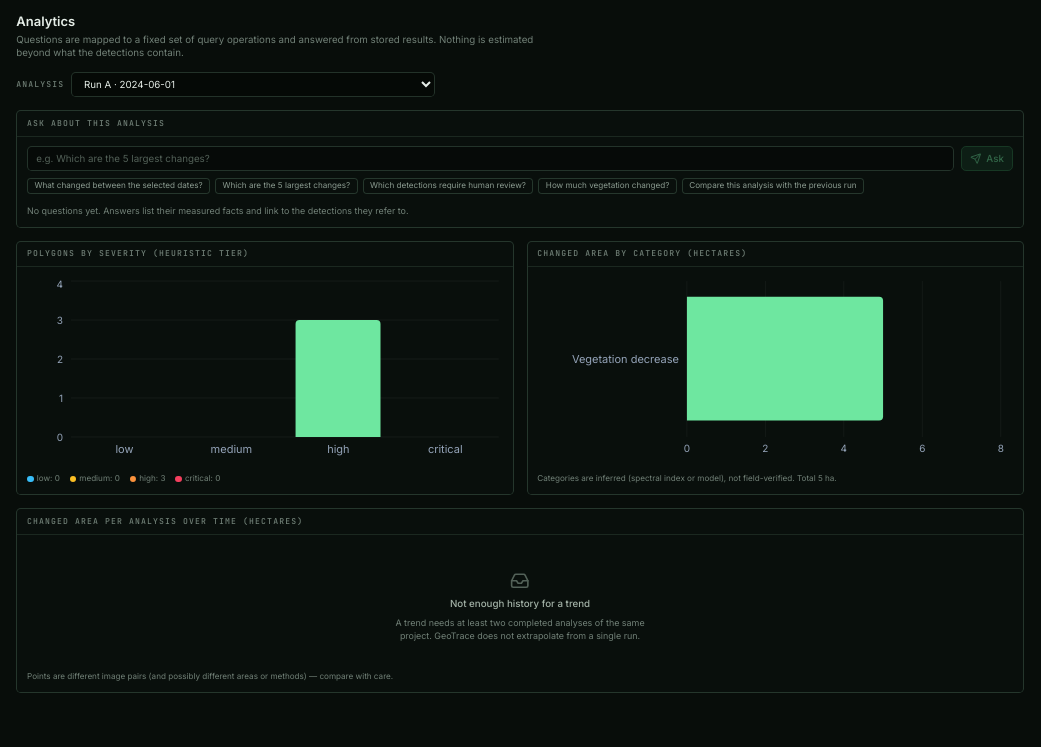
Test: AnalyticsPage › answers a question via the API and shows an honest message for unsupported ones
Type "Will it rain tomorrow?" into the field named "Ask a question" at (491, 159), box [27,146,954,171]
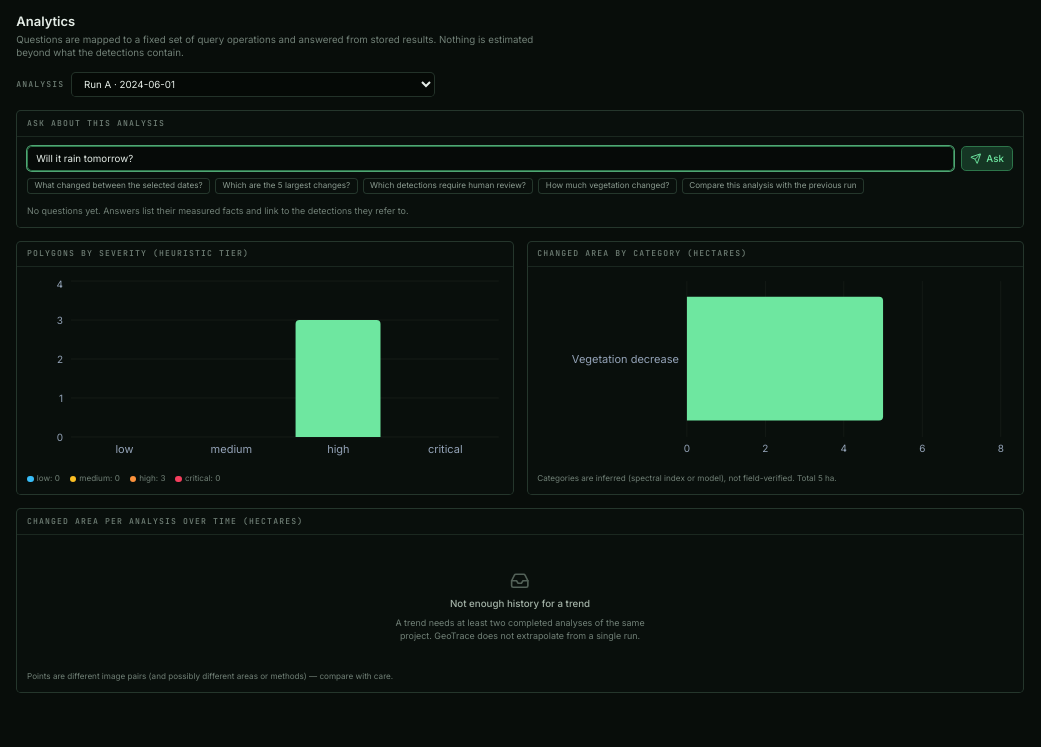
Click the button "Ask" at (987, 159), box [961,146,1013,171]
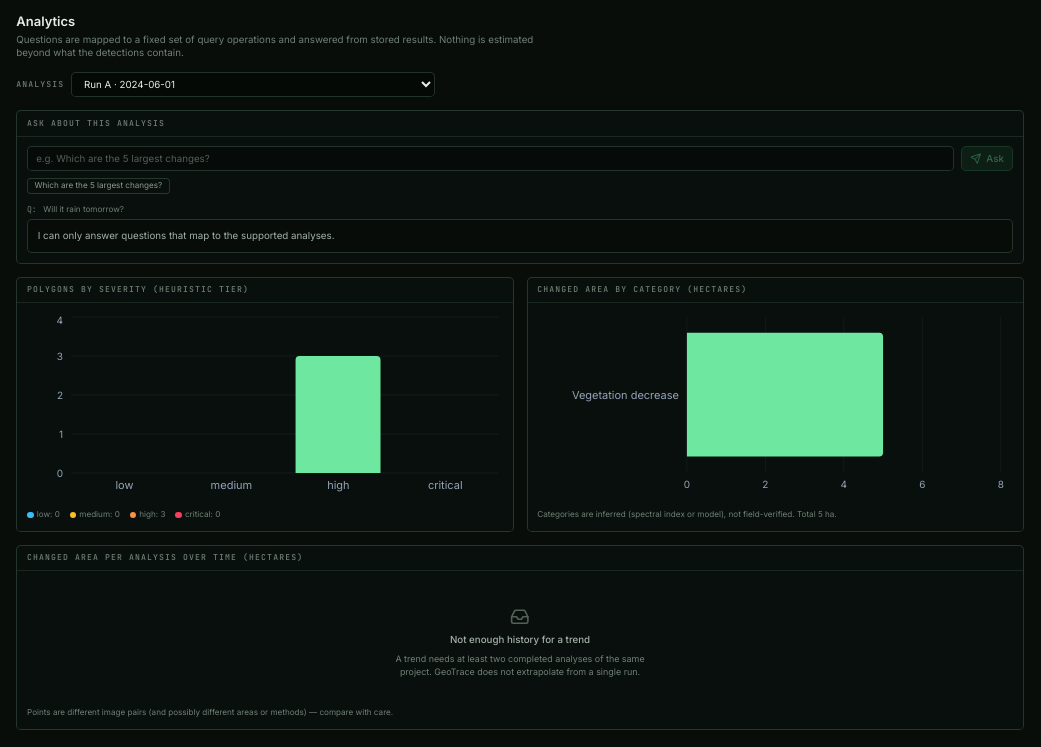
Expected: the text "Not enough history for a trend" is shown, [450,633,590,646]
Expected: the text "I can only answer questions" is shown, [38,230,334,241]
